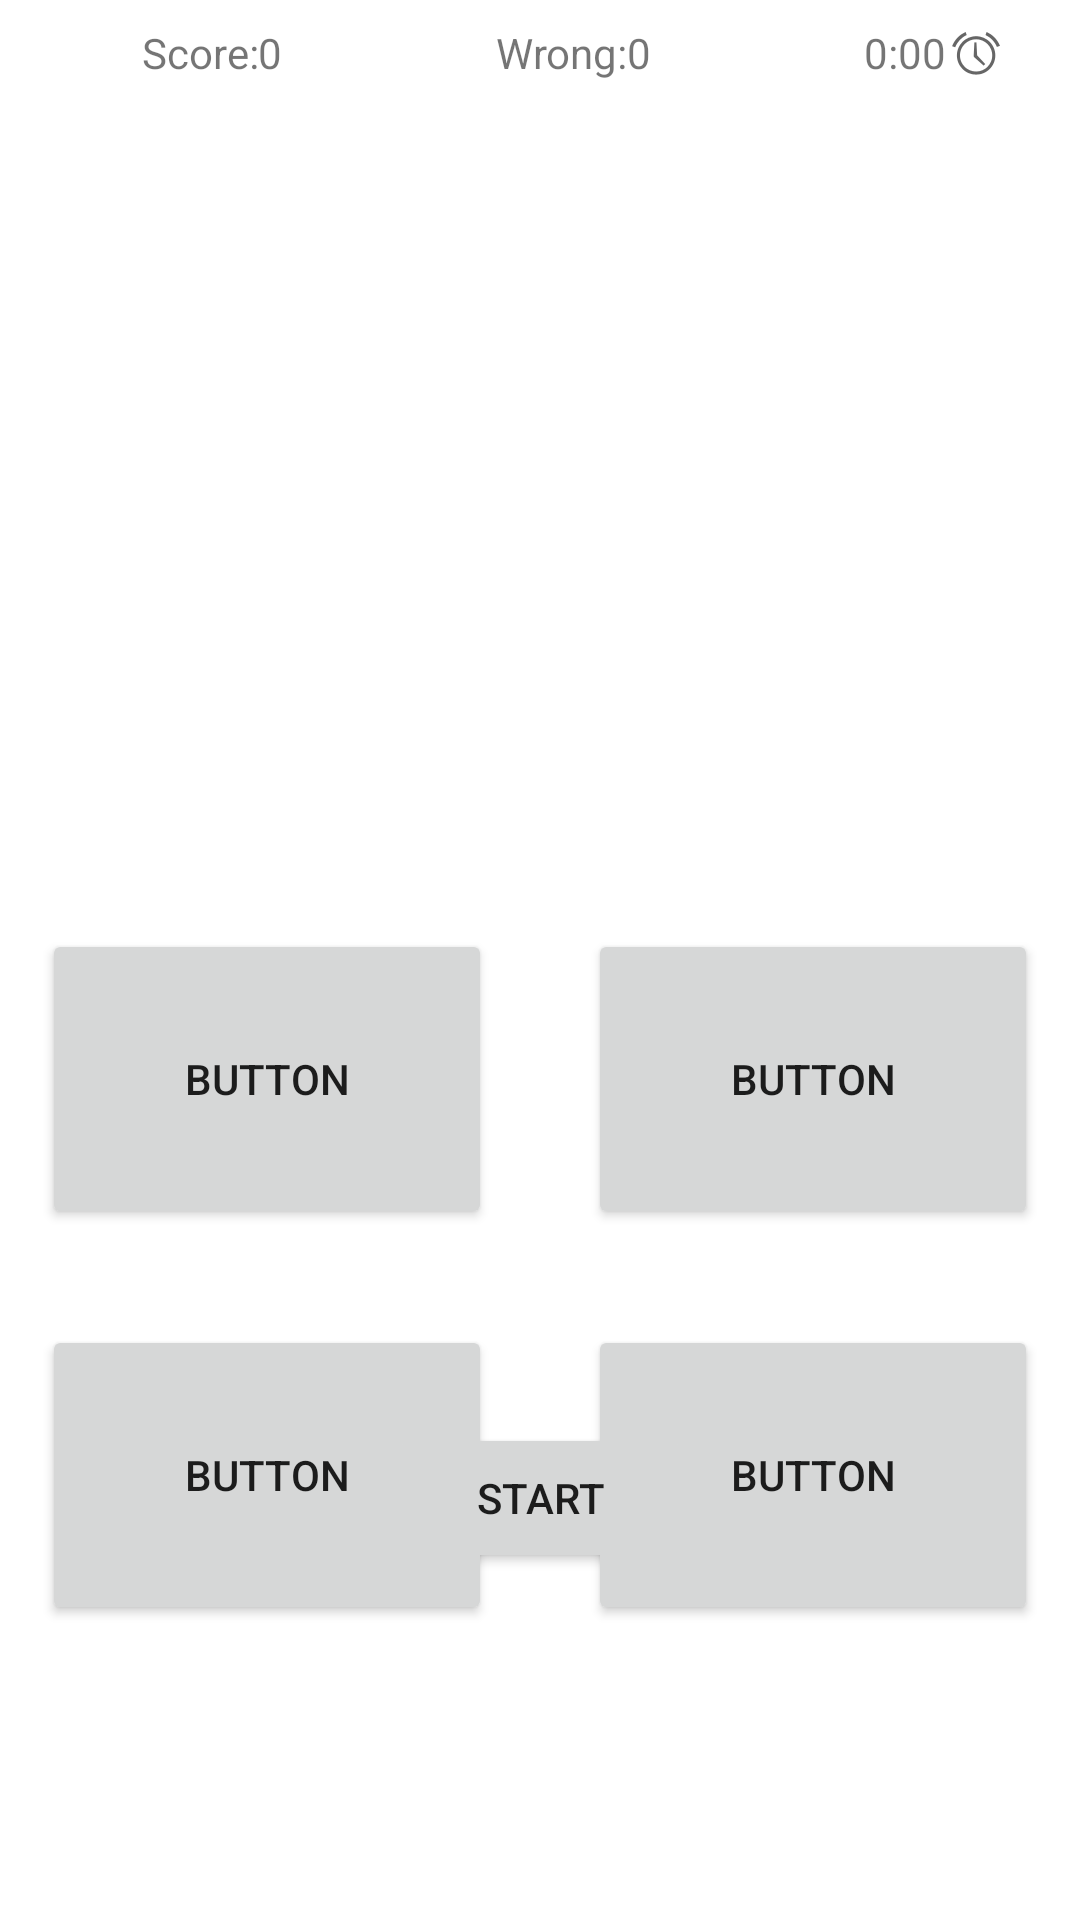

Screen size 1080px x 1920px. Icon name, then its center in pixels as (x=x, y=y):
lock idle alarm: (x=976, y=53)
